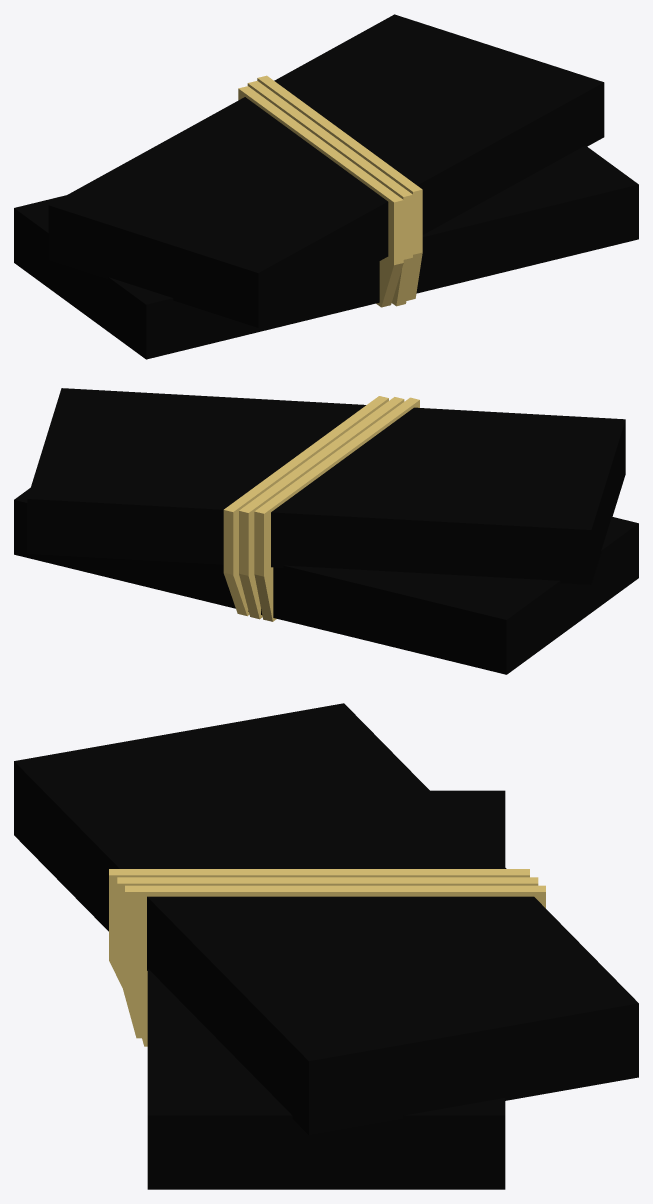
Rendered from steel.fbx.
3 views of the same model, one above another, from view 1: azimuth 30°, elevation 25°; view 2: azimuth 150°, elevation 25°; view 3: azimuth 270°, elevation 25° (orthographic). The views are drawn at different scales.
Visible parts, largest first — view 1: Cube; view 2: Cube; view 3: Cube.
Part boxes in pixels (<box>): Cube: <box>14,14,638,359</box>; Cube: <box>14,388,638,674</box>; Cube: <box>14,703,638,1189</box>.
Bounding box in the file's own units: 269 × 54.14 × 198.
